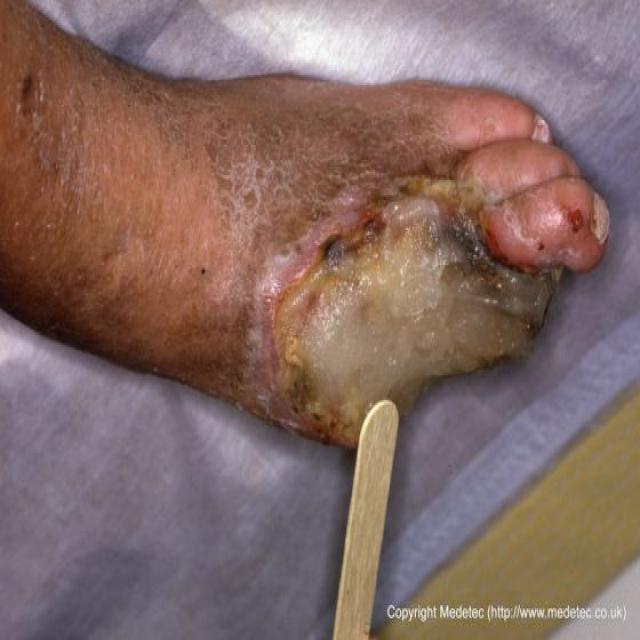wound: (268, 170, 564, 448)
